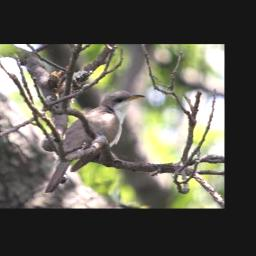Cuckoo: (45, 87, 147, 196)
